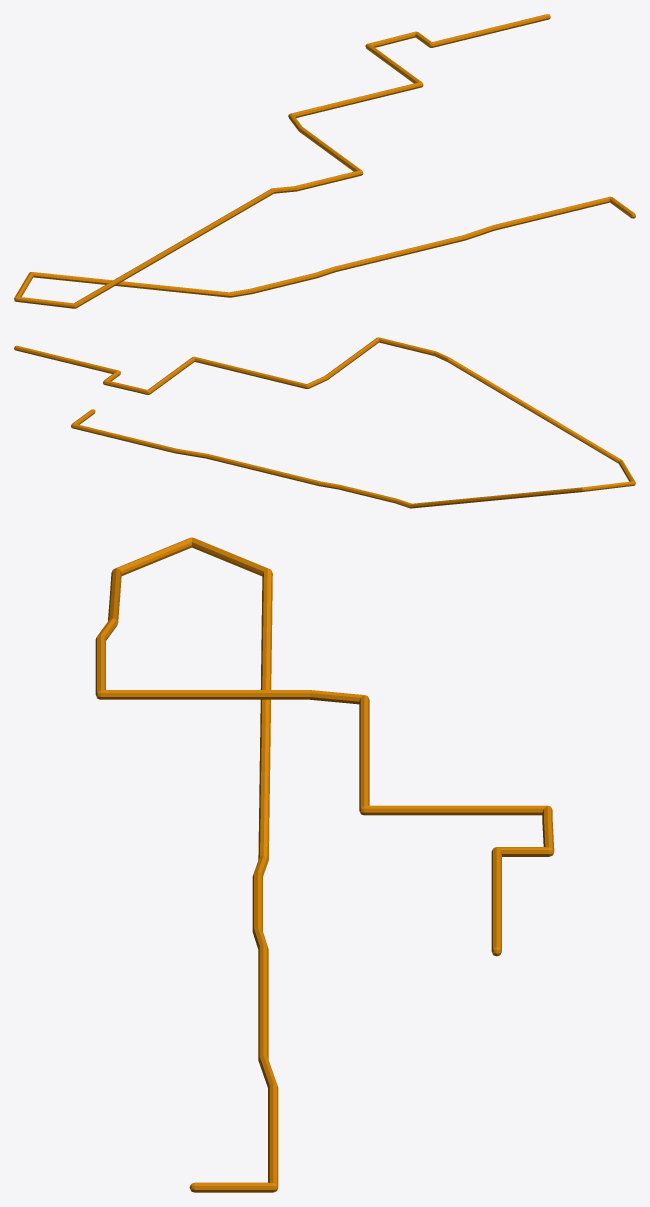
3 renders of one model, top to bottom at view 1: azimuth 30°, elevation 25°; view 2: azimuth 150°, elevation 25°; view 3: azimuth 270°, elevation 25°, orthographic. The views are drawn at different scales.
Size of the model in its own units: 2406 by 520 by 877.
